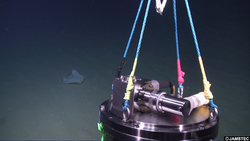plastic bag: (61, 67, 84, 87)
